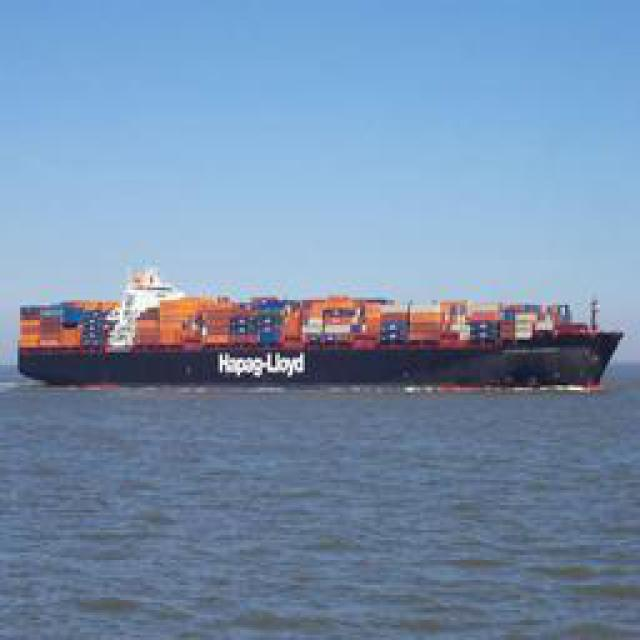Ship: (26, 266, 604, 391)
